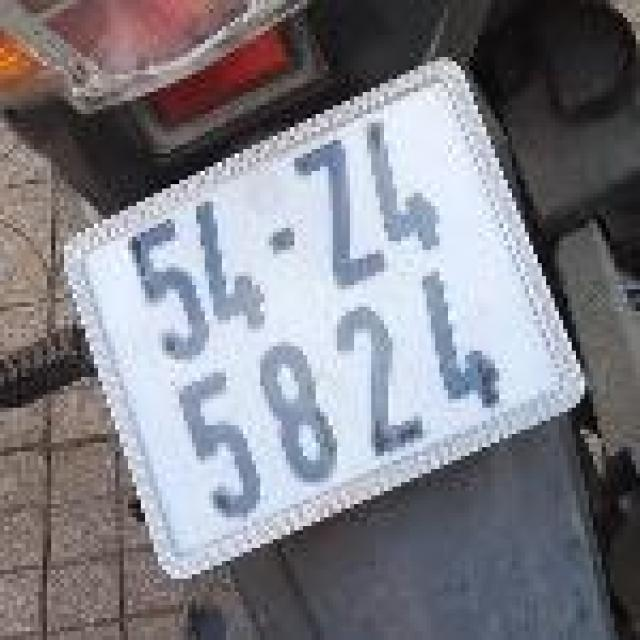2: (315, 296, 445, 475)
4: (344, 95, 470, 278), (397, 259, 526, 433), (173, 181, 288, 354)
5: (109, 194, 237, 384), (155, 362, 276, 533)
8: (242, 327, 363, 508)
Z: (276, 121, 400, 309)
